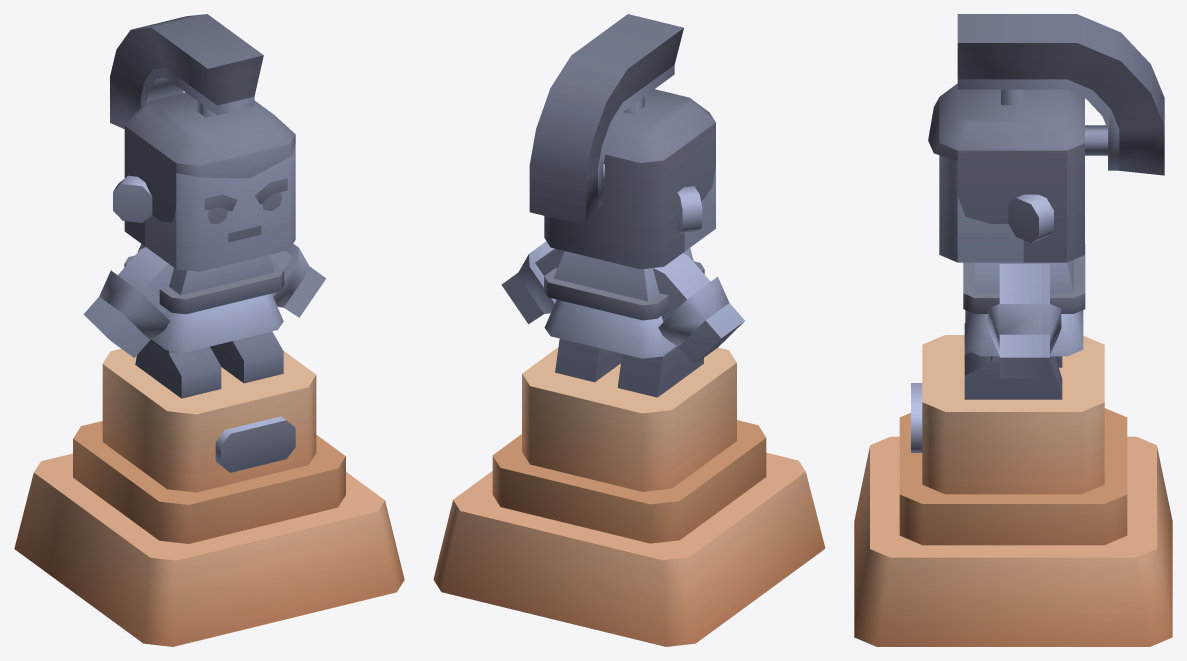
The model's file is statue-transformed.glb.
3 views of the same model, side by side, from view 1: azimuth 30°, elevation 25°; view 2: azimuth 150°, elevation 25°; view 3: azimuth 270°, elevation 25° (orthographic). The views are drawn at different scales.
Parts seen in each view (by area): view 1: statue; view 2: statue; view 3: statue.
Part boxes in pixels (x1,y1,x2,y2): statue: (14, 14, 404, 646); statue: (433, 14, 825, 646); statue: (854, 14, 1172, 646).
Bounding box in the file's own units: 0.7 × 1.34 × 0.7.
Materials: 1 (1 with a texture image).
